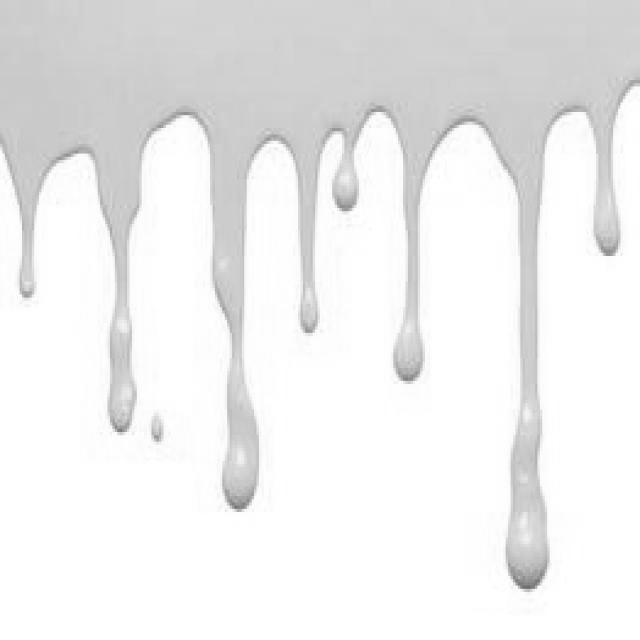paint drips: (454, 22, 624, 606), (92, 32, 269, 526), (0, 42, 168, 449), (282, 19, 443, 408)
